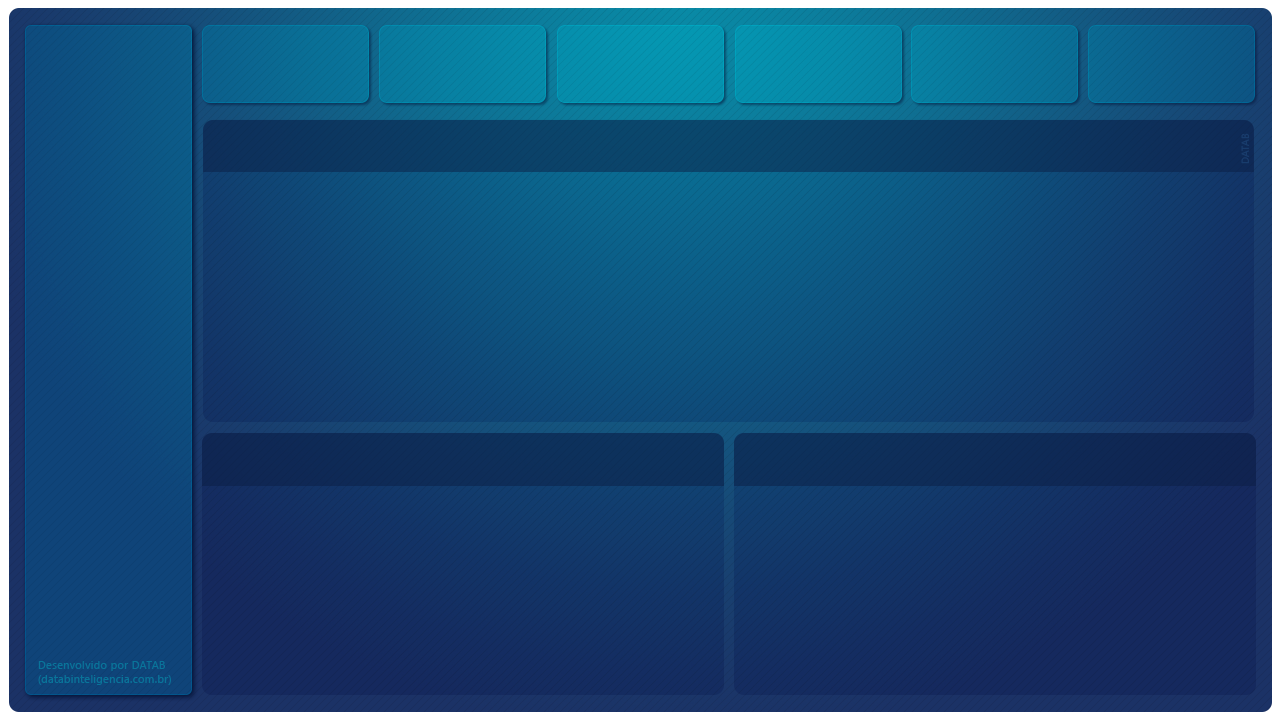

Layout of this report page (visuals, bound fields, positions):
{"tool":"powerbi","page":{"name":"TOP 50 de filmes","canvas":[1280,720],"ordinal":0},"visuals":[{"type":"tableEx","fields":{"Values":["TOP 50 Bilheterias Files.Título","TOP 50 Bilheterias Files.Ano","TOP 50 Bilheterias Files.Arrecadação"]},"box":[241.4,520.7,497.6,191.2],"z":0},{"type":"textbox","box":[89.7,156.3,111.4,50.3],"z":5},{"type":"textbox","box":[46.2,31.3,1148.2,78.8],"z":6},{"type":"image","box":[21.7,13.6,150.8,112.8],"z":7},{"type":"image","box":[1096.6,13.6,153.5,101.9],"z":8},{"type":"image","box":[2.7,150.8,107.3,62.5],"z":9},{"type":"columnChart","title":"Títulos e arrecadação por ano","fields":{"Category":["TOP 50 Bilheterias Files.Título"],"Y":["CountNonNull(TOP 50 Bilheterias Files.Título)"],"Series":["TOP 50 Bilheterias Files.Ano"]},"box":[225.6,126.4,1054.4,404.9],"z":1000},{"type":"slicer","fields":{"Values":["TOP 50 Bilheterias Files.Título"]},"box":[20.3,206.1,180.3,240],"z":2000},{"type":"slicer","fields":{"Values":["TOP 50 Bilheterias Files.Ano"]},"box":[20.3,456.9,180.3,214.2],"z":3000}]}

Visuals, with their boxes in screenshot pixels (x1, y1, x2, y2), scaled from the page's 1280x720 canvas onto the 1280x720 screenshot:
tableEx - TOP 50 Bilheterias Files.Título x TOP 50 Bilheterias Files.Ano: bbox=(241, 521, 739, 712)
textbox: bbox=(90, 156, 201, 207)
textbox: bbox=(46, 31, 1194, 110)
image: bbox=(22, 14, 172, 126)
image: bbox=(1097, 14, 1250, 116)
image: bbox=(3, 151, 110, 213)
"Títulos e arrecadação por ano" columnChart: bbox=(226, 126, 1279, 531)
slicer - TOP 50 Bilheterias Files.Título: bbox=(20, 206, 201, 446)
slicer - TOP 50 Bilheterias Files.Ano: bbox=(20, 457, 201, 671)
